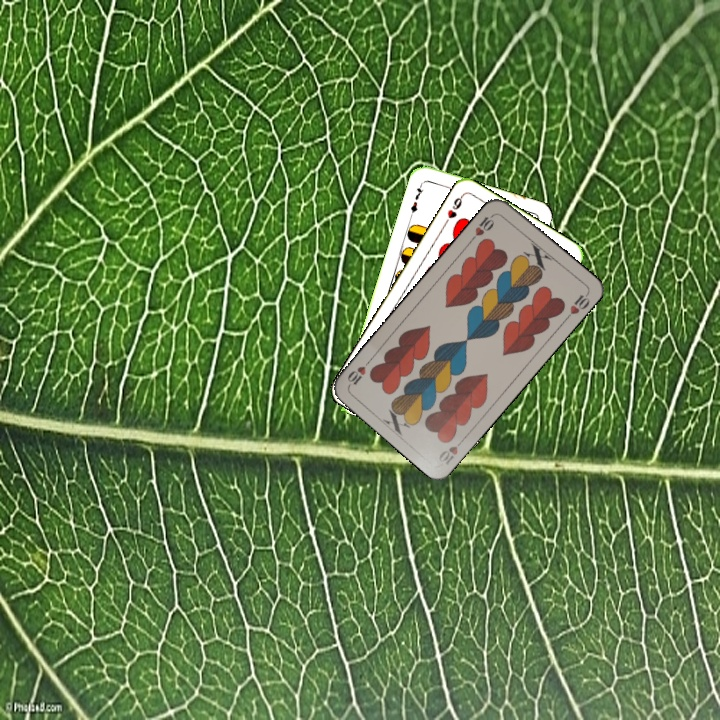E7: (407, 179, 426, 219)
H10: (435, 433, 468, 467), (467, 210, 497, 244)
H9: (440, 191, 466, 228)
